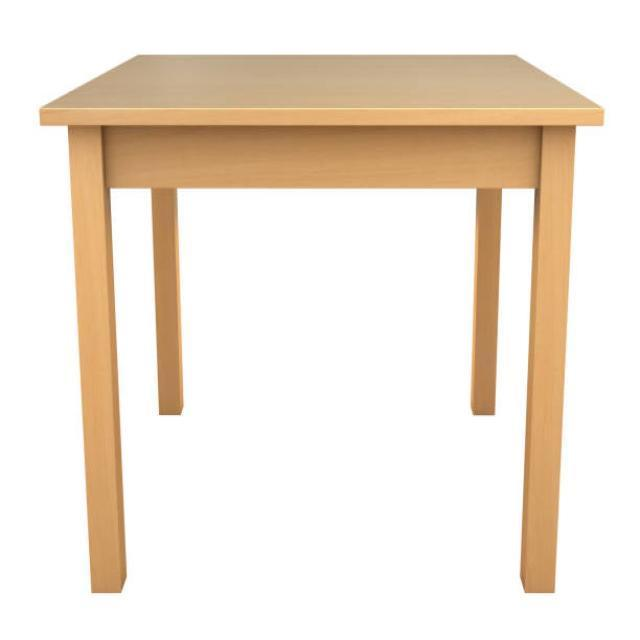table: (38, 51, 604, 596)
